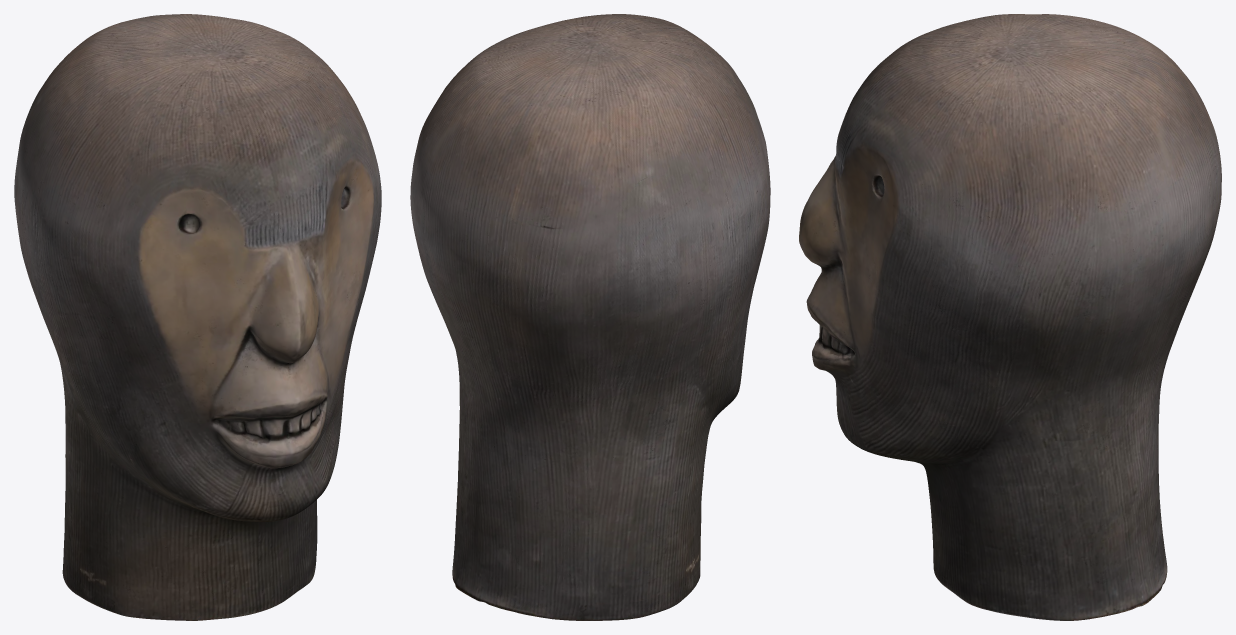
The model's file is head-a.glb.
The picture shows the model from 3 angles, left to right: view 1: azimuth 30°, elevation 25°; view 2: azimuth 150°, elevation 25°; view 3: azimuth 270°, elevation 25°; orthographic projection. The views are drawn at different scales.
Parts seen in each view (by area): view 1: Low; view 2: Low; view 3: Low.
Part boxes in pixels (x1=…): Low: x1=14, y1=14, x2=381, y2=620; Low: x1=410, y1=14, x2=770, y2=620; Low: x1=799, y1=14, x2=1221, y2=620.
Size of the model in its own units: 0.3111 by 0.5 by 0.3661.
Materials: 1 (1 with a texture image).
